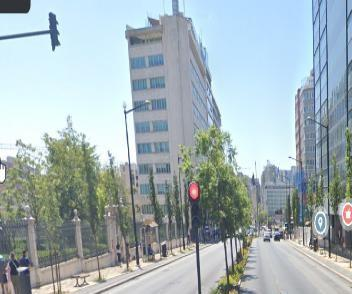red_light: (188, 181, 201, 228)
